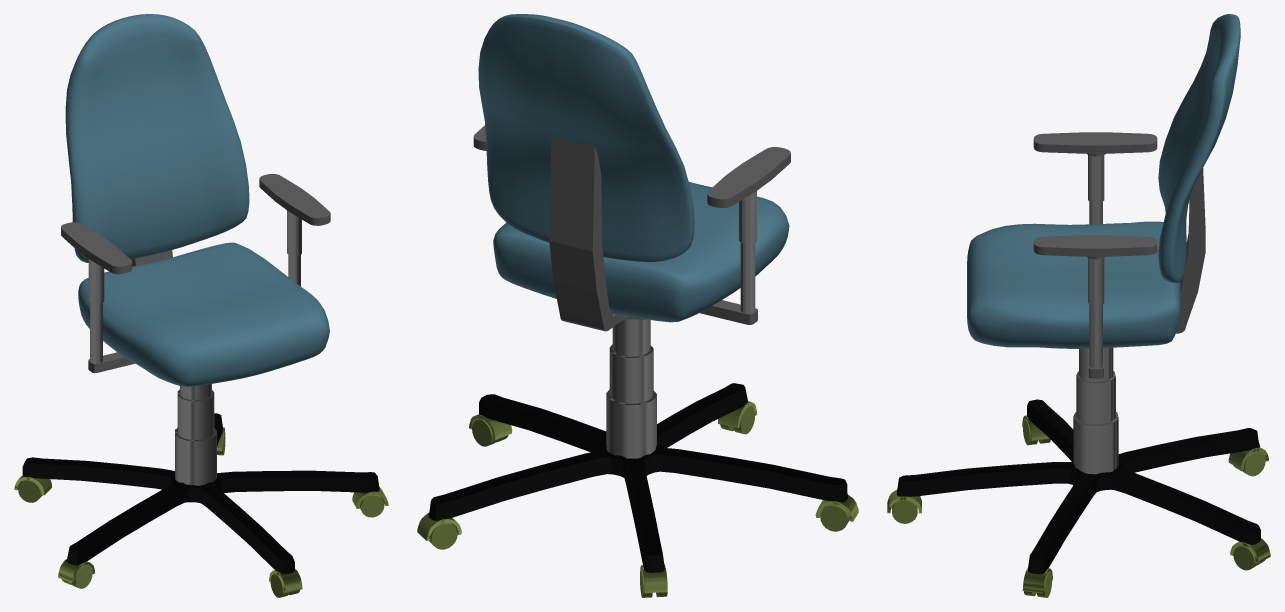
File: Office Chair.fbx
3 views of the same model, side by side, from view 1: azimuth 30°, elevation 25°; view 2: azimuth 150°, elevation 25°; view 3: azimuth 270°, elevation 25° (orthographic). The views are drawn at different scales.
Visible parts, largest first — view 1: polySurface40, pCylinder10, polySurface41; view 2: pCylinder10, polySurface40, polySurface41; view 3: pCylinder10, polySurface41, polySurface40.
Boxes of the visible parts, left/top/right/bottom form: polySurface40: left=65, top=14, right=249, bottom=262; pCylinder10: left=14, top=174, right=388, bottom=597; polySurface41: left=78, top=242, right=329, bottom=386; pCylinder10: left=417, top=125, right=858, bottom=597; polySurface40: left=478, top=14, right=694, bottom=261; polySurface41: left=493, top=182, right=789, bottom=322; pCylinder10: left=887, top=132, right=1270, bottom=597; polySurface41: left=967, top=221, right=1180, bottom=348; polySurface40: left=1158, top=14, right=1240, bottom=282.
Bounding box in the file's own units: 7.13 × 9.67 × 6.82.
